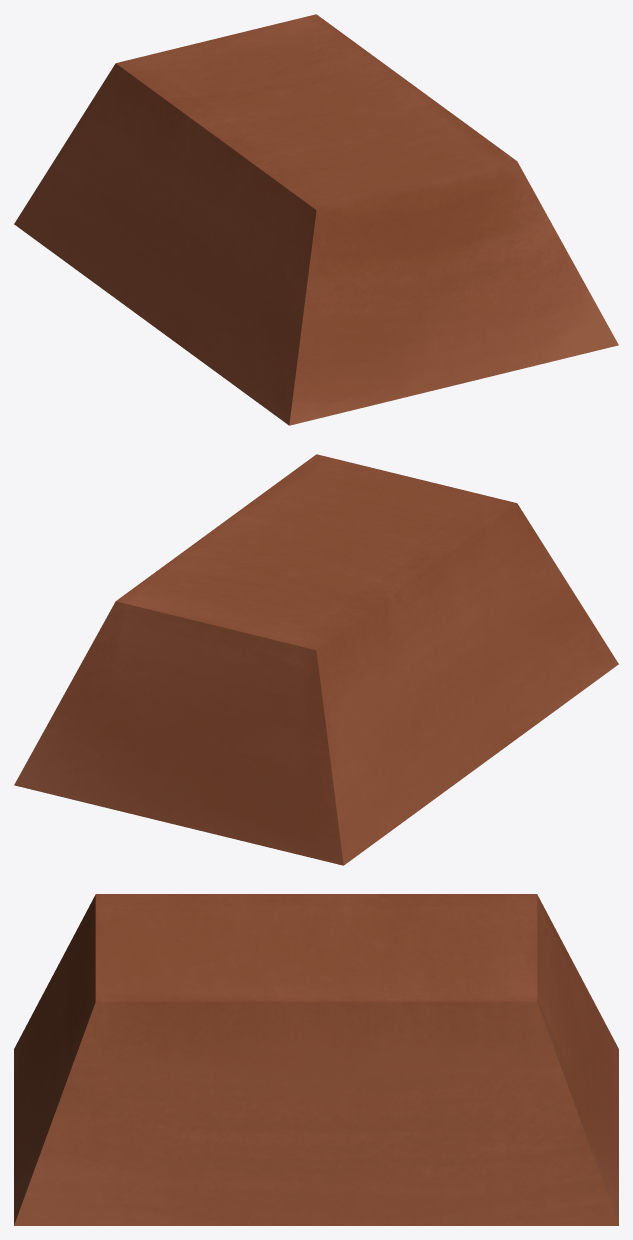
Rendered from Bar_clean_clay.fbx.
3 views of the same model, one above another, from view 1: azimuth 30°, elevation 25°; view 2: azimuth 150°, elevation 25°; view 3: azimuth 270°, elevation 25° (orthographic). The views are drawn at different scales.
Visible parts, largest first — view 1: Bar_clean_clay; view 2: Bar_clean_clay; view 3: Bar_clean_clay.
Part boxes in pixels (x1,y1,x2,y2): Bar_clean_clay: (14, 14, 618, 425); Bar_clean_clay: (14, 454, 618, 865); Bar_clean_clay: (14, 894, 618, 1225).
Size of the model in its own units: 18.18 by 26.3 by 9.09.
